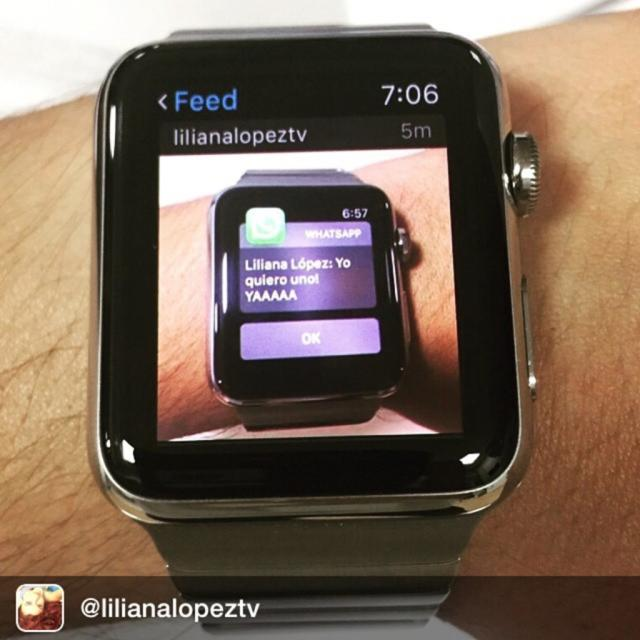Mobile-phone: (89, 22, 535, 554)
